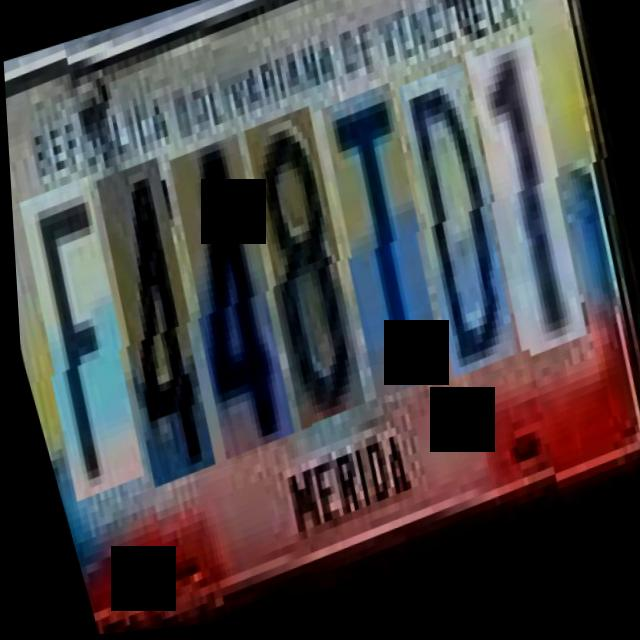1: (450, 41, 610, 371)
4: (152, 137, 317, 468), (79, 157, 238, 494)
8: (228, 111, 388, 441)
D: (383, 73, 542, 395)
F: (9, 181, 167, 511)
T: (306, 92, 468, 414)
